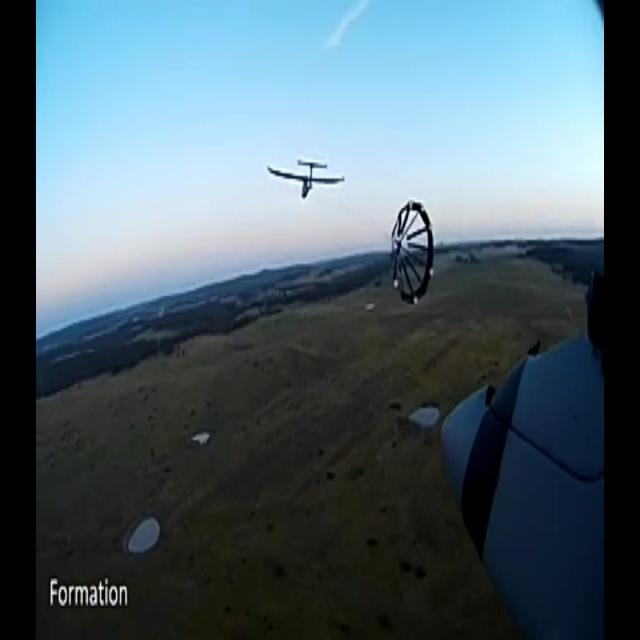iha: (297, 156, 314, 203)
